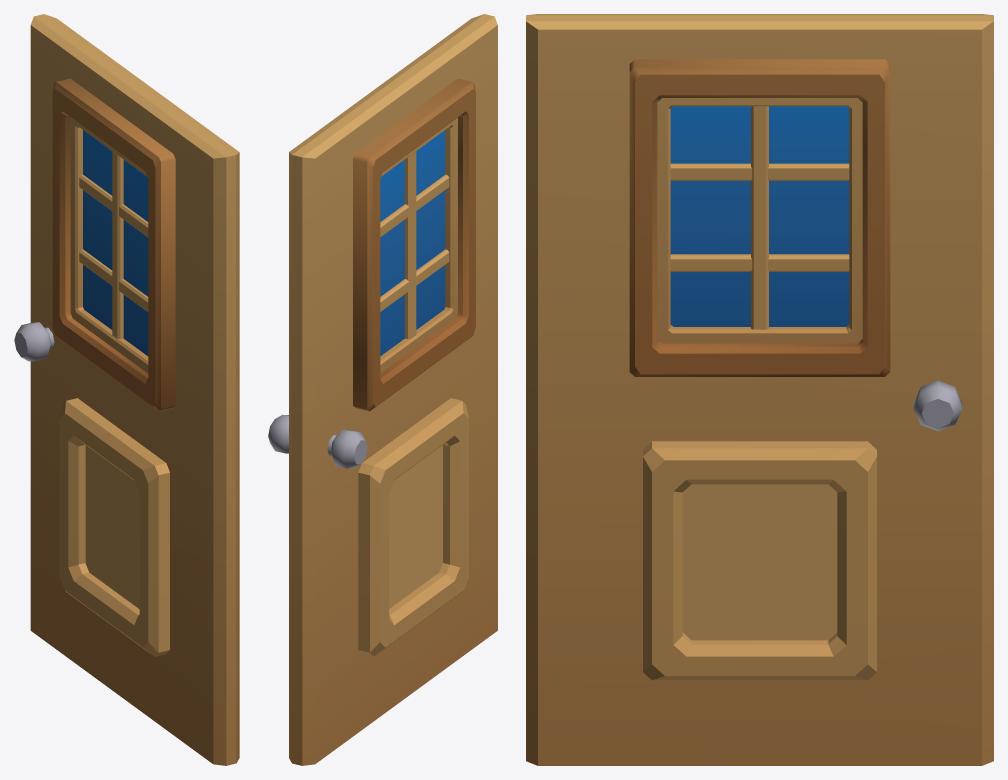
Rendered from Door_1_F.glb.
3 views of the same model, side by side, from view 1: azimuth 30°, elevation 25°; view 2: azimuth 150°, elevation 25°; view 3: azimuth 270°, elevation 25° (orthographic). The views are drawn at different scales.
Visible parts, largest first — view 1: Door_1_F; view 2: Door_1_F; view 3: Door_1_F.
Part boxes in pixels (x1,y1,x2,y2): Door_1_F: [14, 14, 239, 765]; Door_1_F: [268, 14, 497, 765]; Door_1_F: [526, 14, 993, 765].
Size of the model in its own units: 0.3047 by 2.06 by 1.18.
2 materials, 2 textured.
